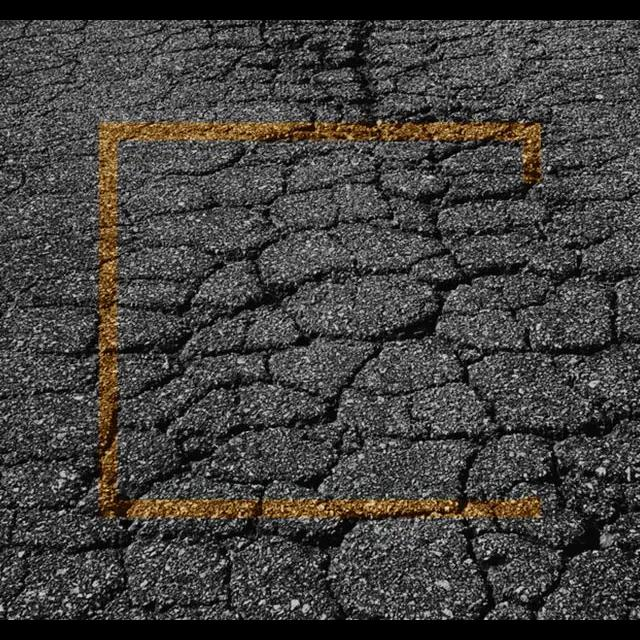lubang_kecil: (88, 125, 581, 505)
